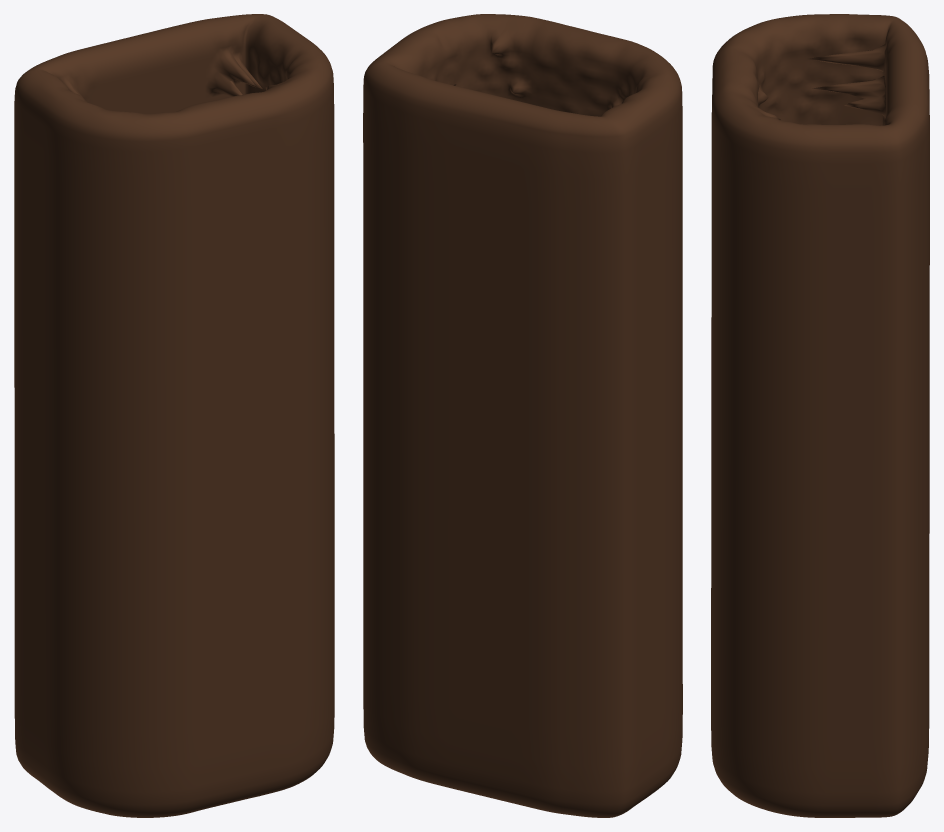
The model's file is Grotte.fbx.
3 views of the same model, side by side, from view 1: azimuth 30°, elevation 25°; view 2: azimuth 150°, elevation 25°; view 3: azimuth 270°, elevation 25° (orthographic).
Parts seen in each view (by area): view 1: Torus_001; view 2: Torus_001; view 3: Torus_001.
Part boxes in pixels (left/top/right/bottom): Torus_001: left=14, top=14, right=334, bottom=817; Torus_001: left=363, top=14, right=682, bottom=817; Torus_001: left=711, top=14, right=929, bottom=817.
Bounding box in the file's own units: 429 × 1064 × 306.
